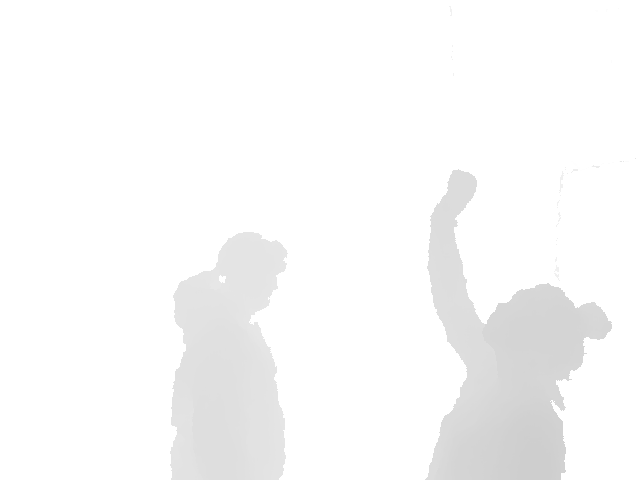hand: (437, 169, 477, 221)
head: (484, 281, 584, 387), (218, 232, 286, 320)
person: (421, 168, 614, 480), (168, 232, 288, 480)
